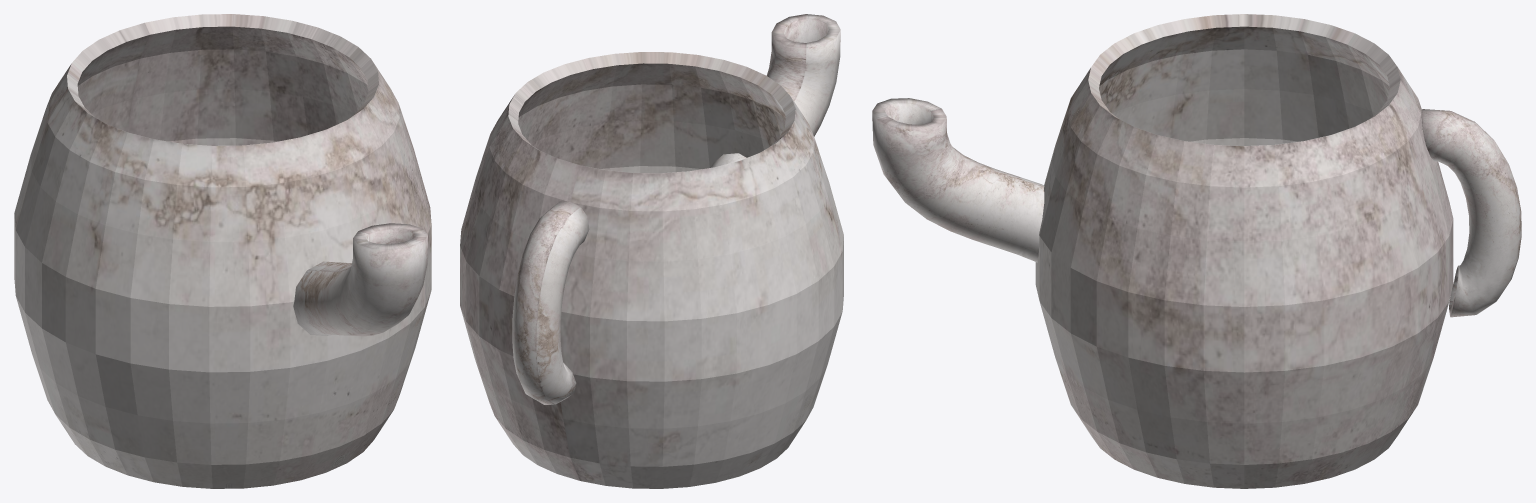
Rendered from tetera.fbx.
3 views of the same model, side by side, from view 1: azimuth 30°, elevation 25°; view 2: azimuth 150°, elevation 25°; view 3: azimuth 270°, elevation 25° (orthographic). The views are drawn at different scales.
Visible parts, largest first — view 1: Cilindro, Curva Bezier.001; view 2: Cilindro, Curva Bezier, Curva Bezier.001; view 3: Cilindro, Curva Bezier.001, Curva Bezier.
Part boxes in pixels (x1,y1,x2,y2): Cilindro: (14,14,431,488); Curva Bezier.001: (293,223,427,336); Cilindro: (460,52,843,488); Curva Bezier: (512,201,589,404); Curva Bezier.001: (710,14,840,167); Cilindro: (1035,14,1453,488); Curva Bezier.001: (872,98,1044,262); Curva Bezier: (1421,109,1521,317).
Bounding box in the file's own units: 796 × 721 × 1238.
Materials: 1 (1 with a texture image).
